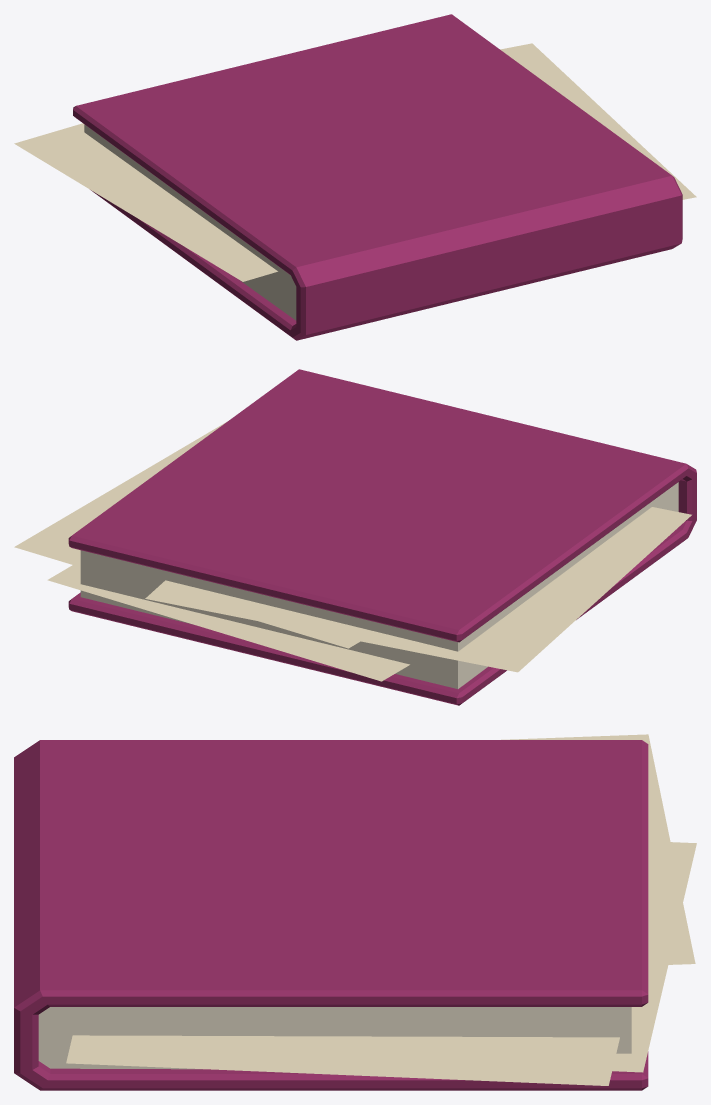
The model's file is SM_Book1.fbx.
3 views of the same model, one above another, from view 1: azimuth 30°, elevation 25°; view 2: azimuth 150°, elevation 25°; view 3: azimuth 270°, elevation 25° (orthographic). The views are drawn at different scales.
Visible parts, largest first — view 1: Cube.028; view 2: Cube.028; view 3: Cube.028.
Boxes of the visible parts, x1,y1,x2,y2 form: Cube.028: (14,14,696,340); Cube.028: (14,369,696,705); Cube.028: (14,734,696,1090).
Size of the model in its own units: 36.07 by 41.92 by 5.84.
